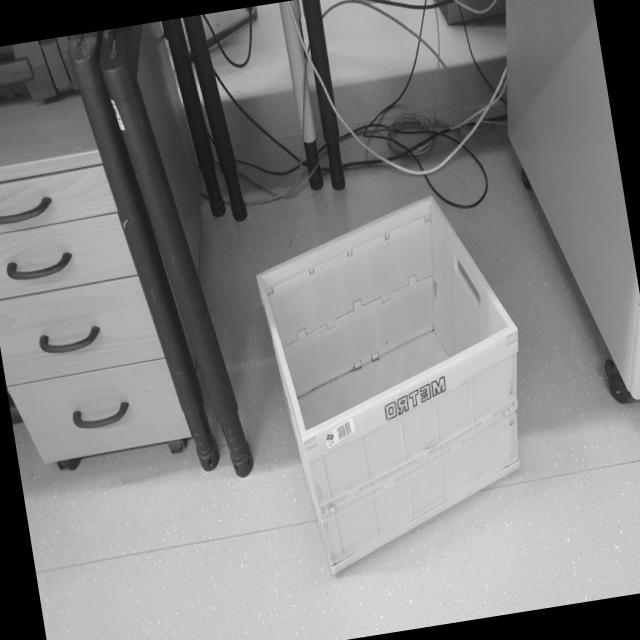box: (243, 178, 556, 585)
